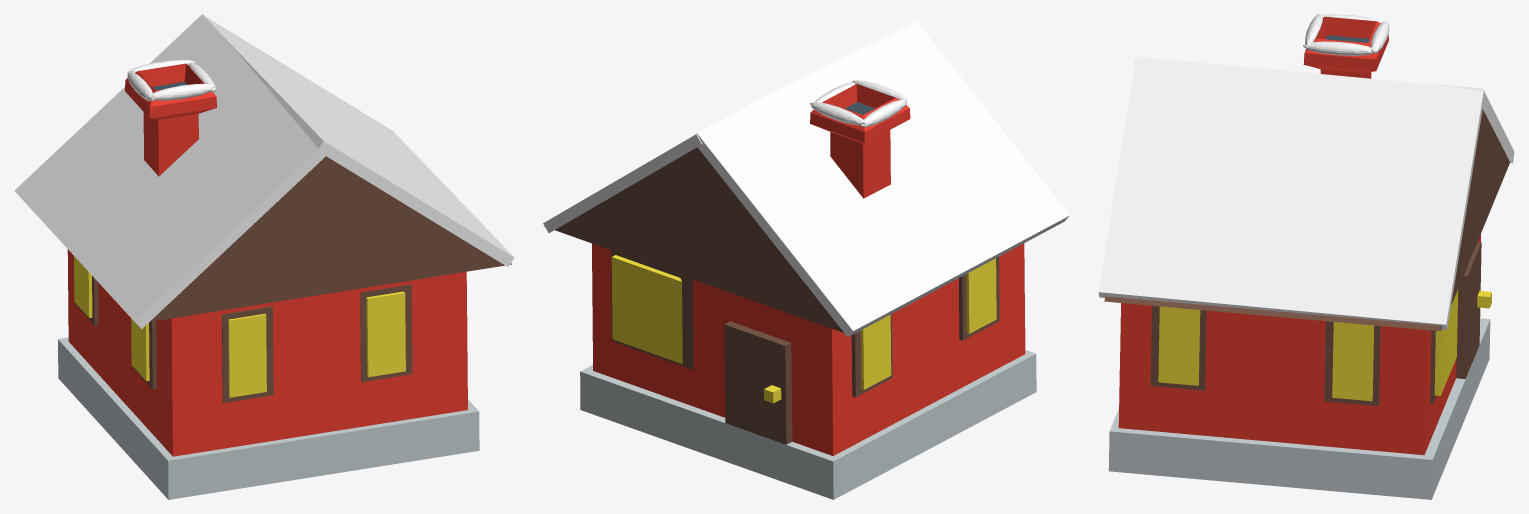
Rendered from housesnowroja2_lev5.glb.
3 renders of one model, left to right at view 1: azimuth 30°, elevation 25°; view 2: azimuth 150°, elevation 25°; view 3: azimuth 270°, elevation 25°, orthographic. The views are drawn at different scales.
Parts seen in each view (by area): view 1: housesnowroja2_lev5; view 2: housesnowroja2_lev5; view 3: housesnowroja2_lev5.
Boxes of the visible parts, bbox=[...] form: housesnowroja2_lev5: bbox=[14, 14, 514, 499]; housesnowroja2_lev5: bbox=[543, 14, 1069, 499]; housesnowroja2_lev5: bbox=[1098, 14, 1514, 499].
Bounding box in the file's own units: 19.58 × 16.29 × 17.34.
